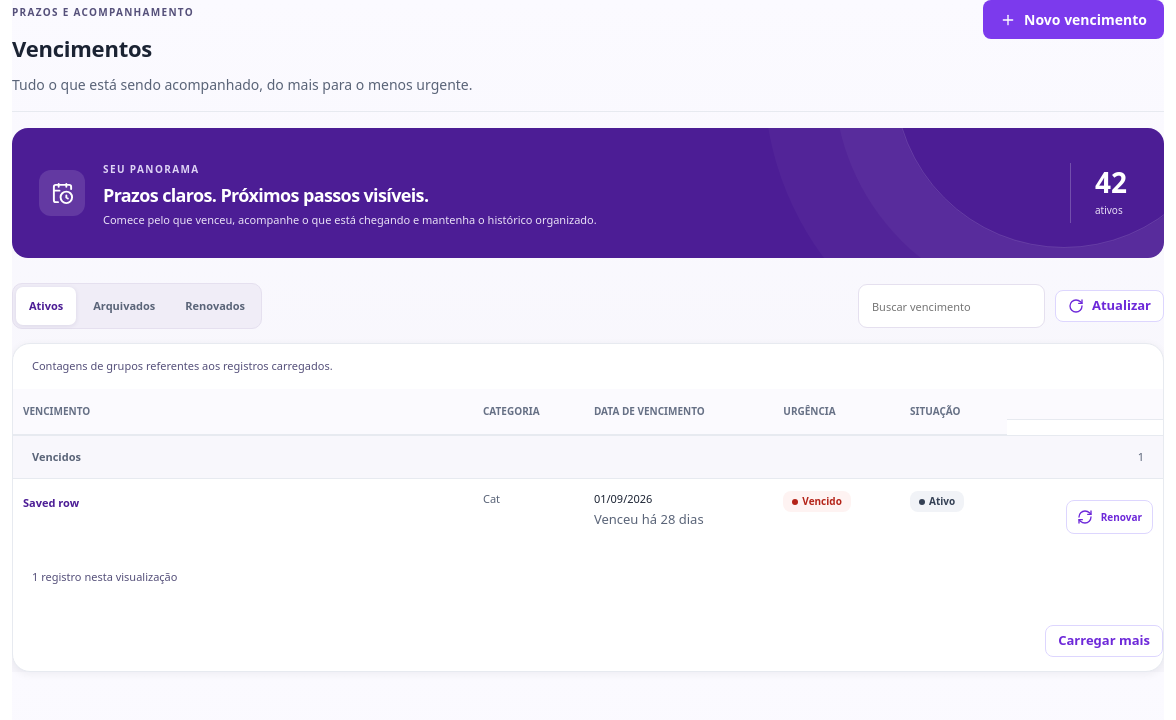
Test: ItemsCollection › retains existing rows when the next page fails and permits retry
Click the button "Carregar mais": (1104, 641) [1045,625,1163,657]
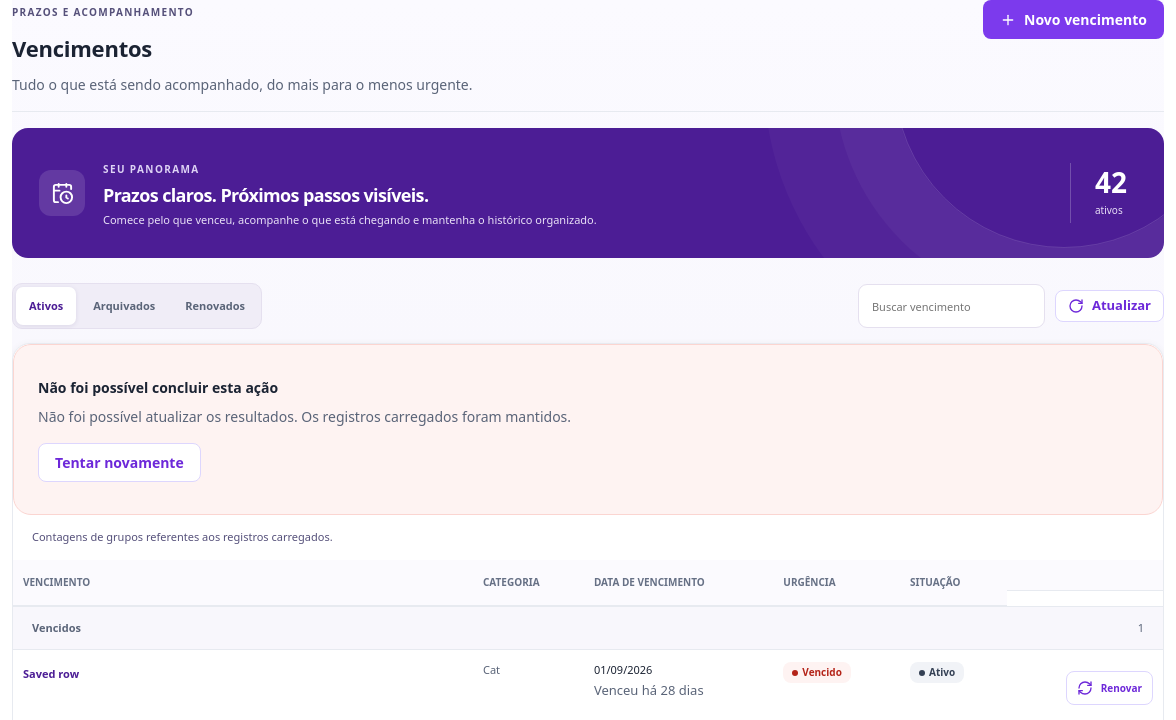
Expected: the link "Saved row" is shown, [23,662,79,687]
Now the text "Os registros carregados foram mantidos" is shown, box [38,407,571,426]
Now the button "Tentar novamente" is enabled, box [38,443,201,482]
